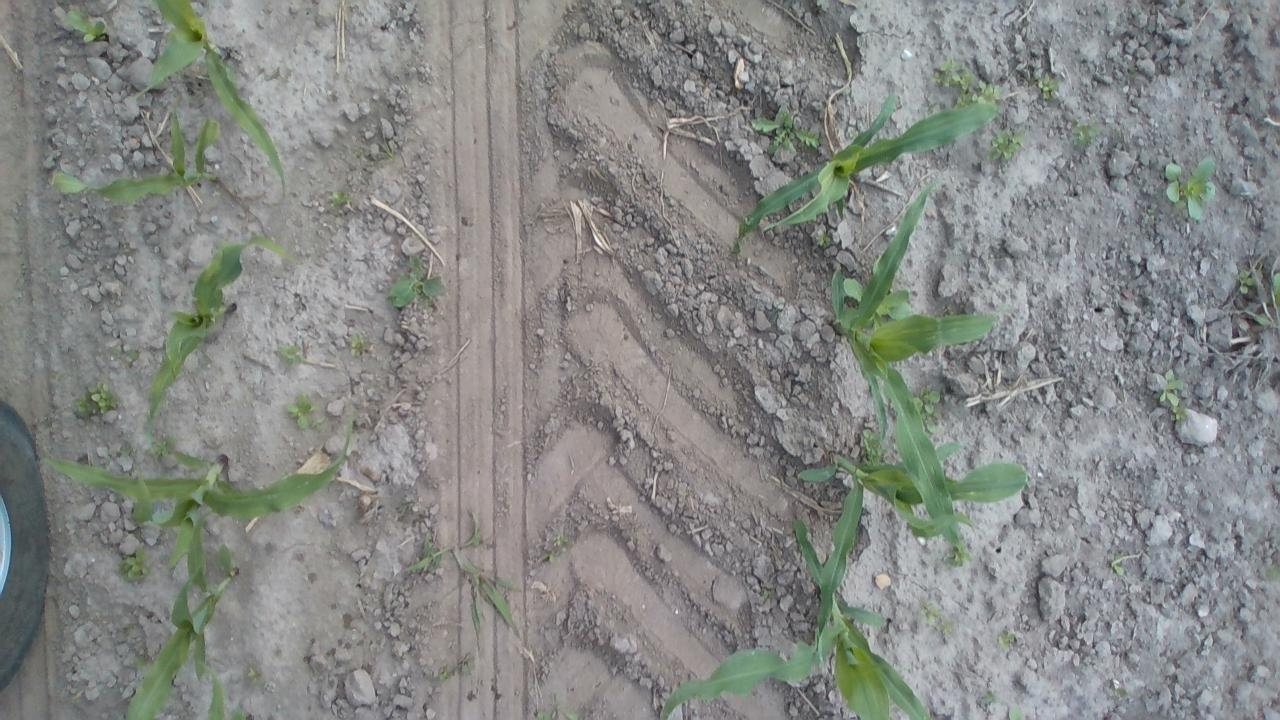Maize: (830, 178, 999, 550), (658, 516, 929, 720), (799, 440, 1033, 669), (46, 415, 354, 584), (731, 90, 999, 257), (144, 234, 303, 460), (132, 0, 286, 204), (123, 509, 240, 720), (49, 104, 222, 206), (198, 662, 252, 720)
Weeds: (403, 512, 525, 650), (1163, 153, 1217, 224), (750, 108, 819, 160), (387, 253, 448, 310), (931, 56, 976, 94), (283, 391, 325, 430), (952, 80, 1002, 110), (75, 384, 119, 418), (113, 545, 151, 582), (987, 127, 1025, 164), (66, 10, 105, 44), (536, 691, 580, 720), (915, 386, 941, 434), (1070, 116, 1104, 150), (921, 600, 953, 634), (1154, 367, 1182, 404), (538, 531, 569, 563), (861, 428, 886, 464), (1034, 72, 1064, 102), (276, 342, 304, 371), (946, 542, 974, 567), (148, 437, 178, 458), (376, 140, 397, 164), (993, 628, 1016, 648), (120, 434, 138, 459), (329, 190, 354, 208), (349, 332, 366, 358), (393, 492, 413, 514), (459, 652, 476, 677), (108, 347, 139, 360), (1108, 554, 1126, 576), (1168, 404, 1188, 422), (1238, 269, 1252, 294), (982, 691, 1001, 709), (1271, 272, 1280, 307), (132, 655, 148, 674), (1264, 564, 1280, 582), (1007, 705, 1026, 720), (1252, 313, 1272, 326), (816, 231, 831, 248), (438, 664, 452, 682), (1107, 687, 1128, 698), (248, 666, 262, 682), (849, 128, 860, 139), (764, 588, 774, 600), (352, 148, 362, 159), (1146, 205, 1156, 214), (1128, 66, 1136, 74)
